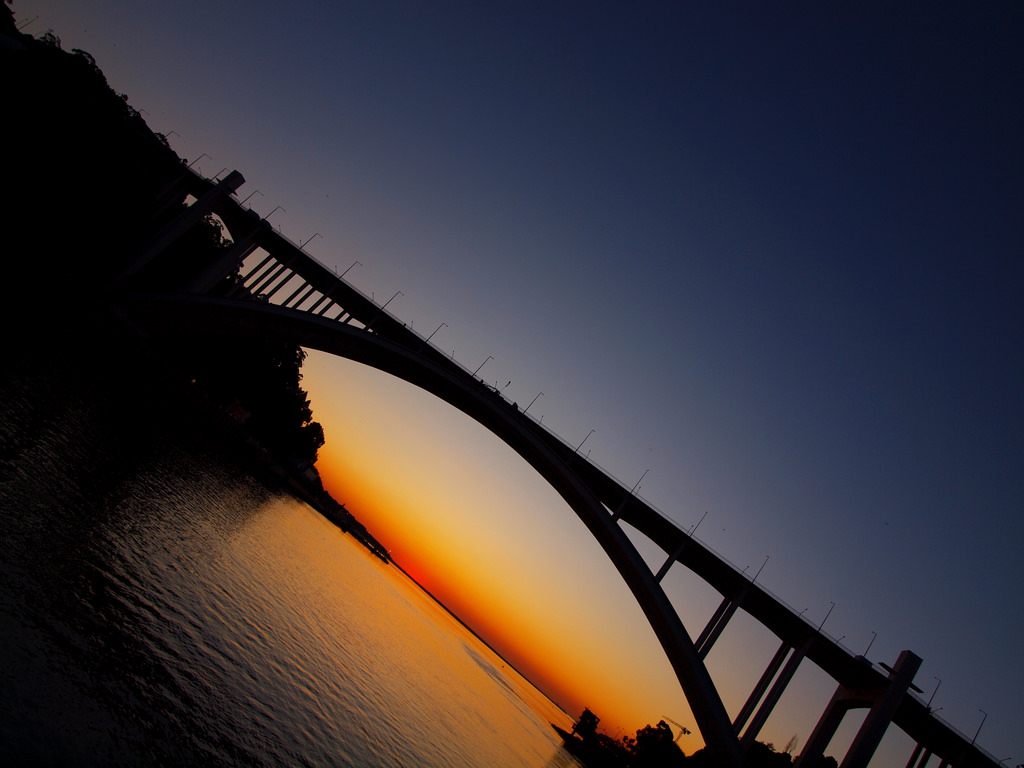arrabida: (33, 35, 1023, 767)
